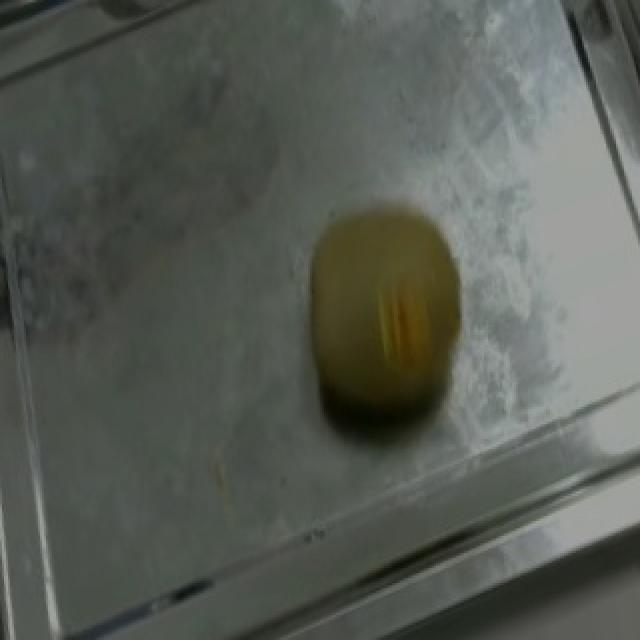Fruit: (260, 174, 512, 476)
